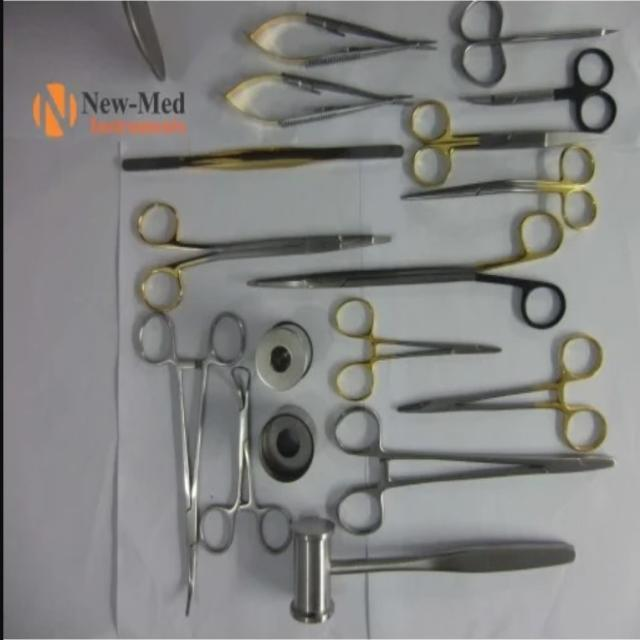tools_table: (109, 0, 636, 630)
